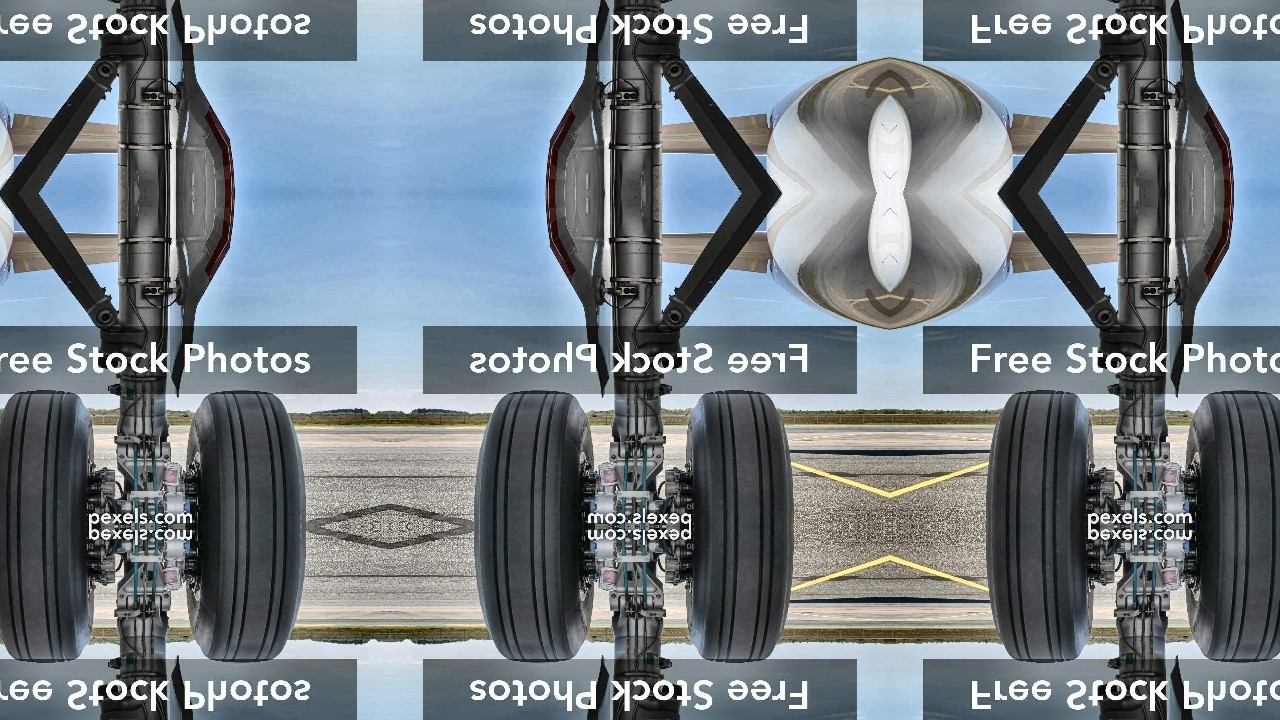wheel: (188, 391, 306, 525), (474, 391, 592, 525), (188, 529, 306, 663), (474, 529, 592, 663), (687, 391, 795, 526), (985, 391, 1093, 526), (687, 528, 795, 663), (985, 528, 1093, 663), (0, 391, 93, 526), (0, 528, 93, 663), (1188, 391, 1280, 525), (1188, 529, 1280, 663)
